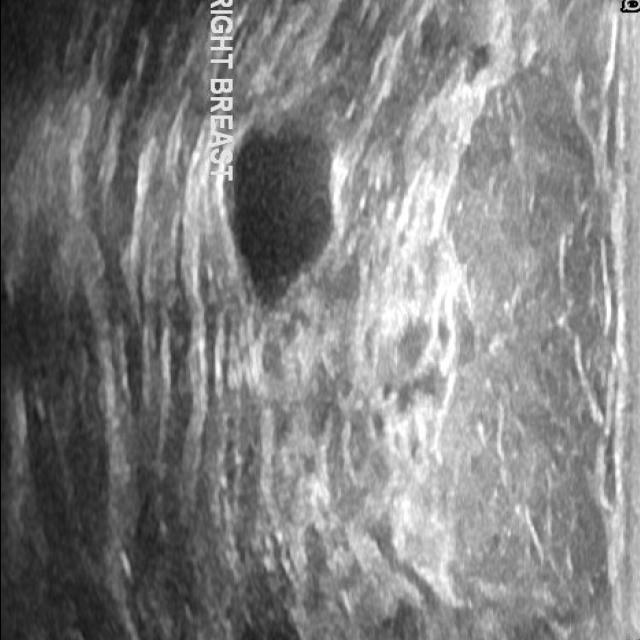Benign: (226, 139, 341, 291)
